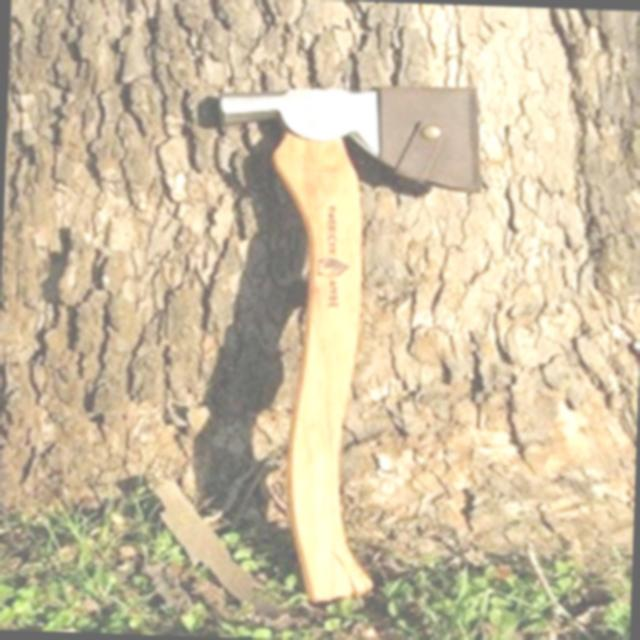ax: (188, 61, 502, 621)
